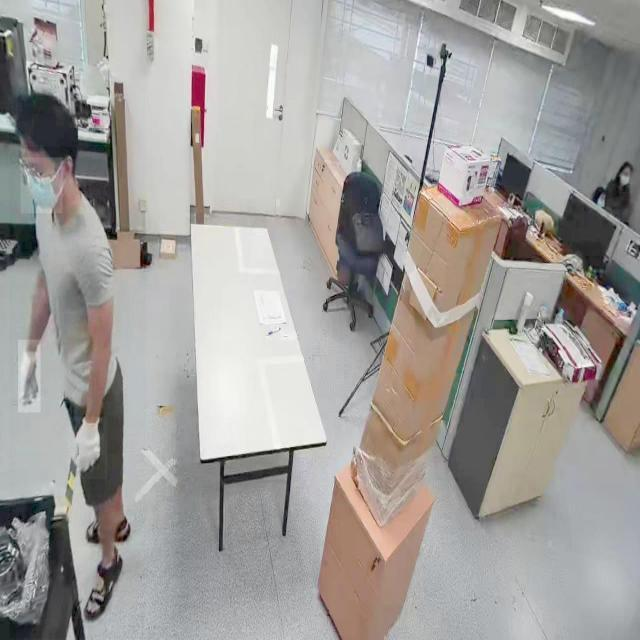gloves: (68, 417, 108, 480), (18, 339, 41, 414)
